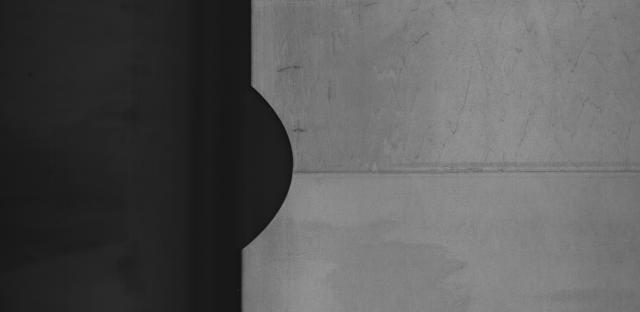crescent_gap: (224, 68, 307, 264)
welding_line: (279, 157, 640, 190)
